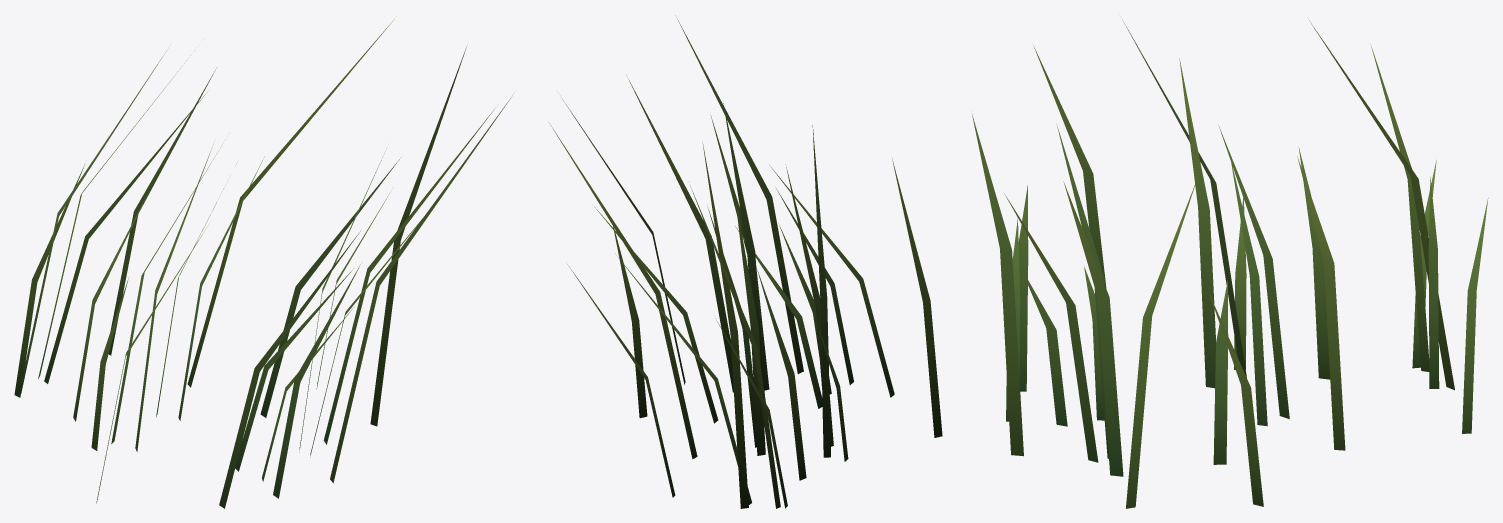
File: seagrass-a.lod1.glb
3 views of the same model, side by side, from view 1: azimuth 30°, elevation 25°; view 2: azimuth 150°, elevation 25°; view 3: azimuth 270°, elevation 25° (orthographic). The views are drawn at different scales.
Parts seen in each view (by area): view 1: seagrass-a.lod1; view 2: seagrass-a.lod1; view 3: seagrass-a.lod1.
Boxes of the visible parts, x1,y1,x2,y2 form: seagrass-a.lod1: (14,19,512,508); seagrass-a.lod1: (549,15,942,508); seagrass-a.lod1: (972,19,1488,508).
Size of the model in its own units: 0.8002 by 0.6784 by 0.7187.
